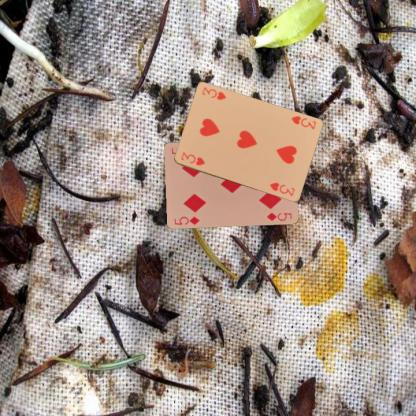3h: (288, 113, 318, 131), (178, 150, 206, 167)
5d: (172, 214, 201, 226)
